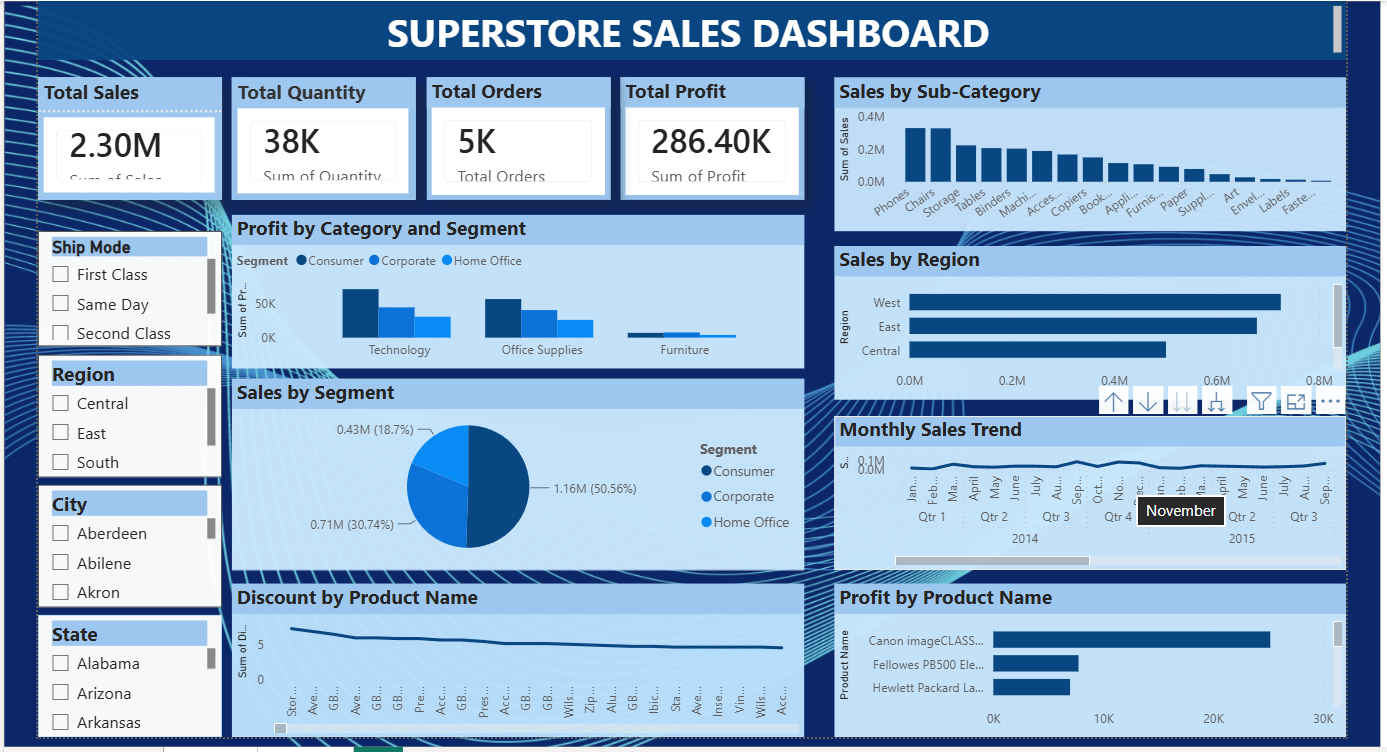

This screenshot's page, from the dashboard's own definition file:
{"tool":"powerbi","page":{"name":"Page 1","canvas":[1280,720],"ordinal":0},"visuals":[{"type":"cardVisual","title":"Total Sales","fields":{"Data":["Sum(task 1.Sales)","Sum(task 1.Sales)"]},"box":[0,74.6,179.8,119.8],"z":0},{"type":"cardVisual","title":"Total Profit","fields":{"Data":["Sum(task 1.Profit)"]},"box":[569.8,74.6,179.8,119.8],"z":1000},{"type":"cardVisual","title":"Total Quantity","fields":{"Data":["Sum(task 1.Quantity)"]},"box":[189.5,74.6,179.8,119.8],"z":2000},{"type":"cardVisual","title":"Total Orders","fields":{"Data":["task 1.Total Orders"]},"box":[380.3,74.6,179.8,119.8],"z":3000},{"type":"clusteredColumnChart","title":" Sales by Sub-Category","fields":{"Category":["task 1.Sub-Category"],"Y":["Sum(task 1.Sales)"]},"box":[778.9,74.6,501.4,150.4],"z":4000},{"type":"clusteredBarChart","title":"Sales by Region","fields":{"Category":["task 1.Region"],"Y":["Sum(task 1.Sales)"]},"box":[778.9,239.7,501.4,150.4],"z":5000},{"type":"pieChart","title":" Sales by Segment","fields":{"Category":["task 1.Segment"],"Y":["Sum(task 1.Sales)"]},"box":[189.5,369.3,560.1,187.1],"z":6000},{"type":"lineChart","title":" Monthly Sales Trend ","fields":{"Y":["Sum(task 1.Sales)"],"Category":["task 1.Order Date.Variation.Date Hierarchy.Year","task 1.Order Date.Variation.Date Hierarchy.Quarter","task 1.Order Date.Variation.Date Hierarchy.Month","task 1.Order Date.Variation.Date Hierarchy.Day"]},"box":[778.9,406,501.4,150.4],"z":7000},{"type":"slicer","fields":{"Values":["task 1.Region"]},"box":[0,346.1,179.8,119.8],"z":8000},{"type":"slicer","fields":{"Values":["task 1.State"]},"box":[0,600.4,179.8,119.8],"z":9000},{"type":"slicer","fields":{"Values":["task 1.City"]},"box":[0,473.2,179.8,119.8],"z":10000},{"type":"slicer","fields":{"Values":["task 1.Ship Mode"]},"box":[0,225,179.8,112.5],"z":11000},{"type":"lineClusteredColumnComboChart","title":"Profit by Category and Segment","fields":{"Category":["task 1.Category"],"Y":["Sum(task 1.Profit)"],"Series":["task 1.Segment"]},"box":[189.5,209.1,560.1,150.4],"z":12000},{"type":"clusteredBarChart","title":"Profit by Product Name","fields":{"Category":["task 1.Product Name"],"Y":["Sum(task 1.Profit)"]},"box":[778.9,569.8,501.4,150.4],"z":13000},{"type":"lineChart","title":"Discount by Product Name","fields":{"Y":["Sum(task 1.Discount)"],"Category":["task 1.Product Name"]},"box":[189.5,569.8,560.1,150.4],"z":14000},{"type":"textbox","box":[0,0,1280.3,57.5],"z":15000}]}

Visuals, with their boxes in screenshot pixels (x1, y1, x2, y2):
"Total Sales" cardVisual: 29/73/214/196
"Total Profit" cardVisual: 615/73/800/196
"Total Quantity" cardVisual: 224/73/409/196
"Total Orders" cardVisual: 420/73/605/196
" Sales by Sub-Category" clusteredColumnChart: 830/73/1346/228
"Sales by Region" clusteredBarChart: 830/243/1346/398
" Sales by Segment" pieChart: 224/376/800/569
" Monthly Sales Trend " lineChart: 830/414/1346/569
slicer - task 1.Region: 29/353/214/476
slicer - task 1.State: 29/614/214/738
slicer - task 1.City: 29/483/214/607
slicer - task 1.Ship Mode: 29/228/214/344
"Profit by Category and Segment" lineClusteredColumnComboChart: 224/212/800/366
"Profit by Product Name" clusteredBarChart: 830/583/1346/738
"Discount by Product Name" lineChart: 224/583/800/738
textbox: 29/0/1346/56
